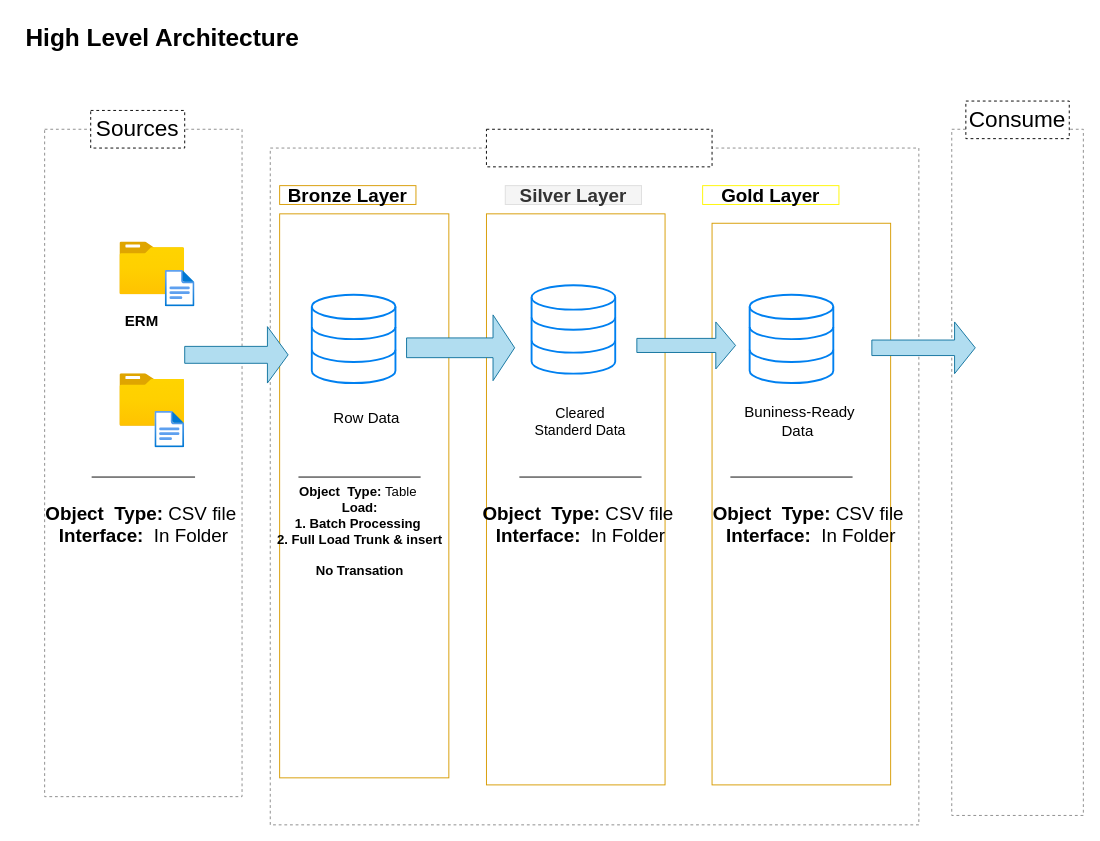
The diagram is 1100 pixels wide and 841 high, and some of its shapes have lost their labels. The shapes that lost their labels are listed below. From the top down, each one's box as (x1, y1, x2, y2) in pixels, then its label:
(486, 128, 712, 167): Data Warehouse
(44, 128, 242, 797): CRM
